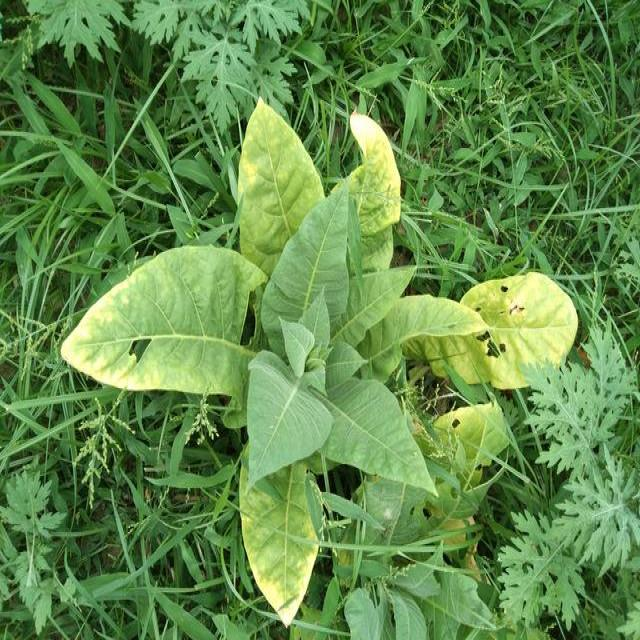crop: (58, 100, 487, 617)
